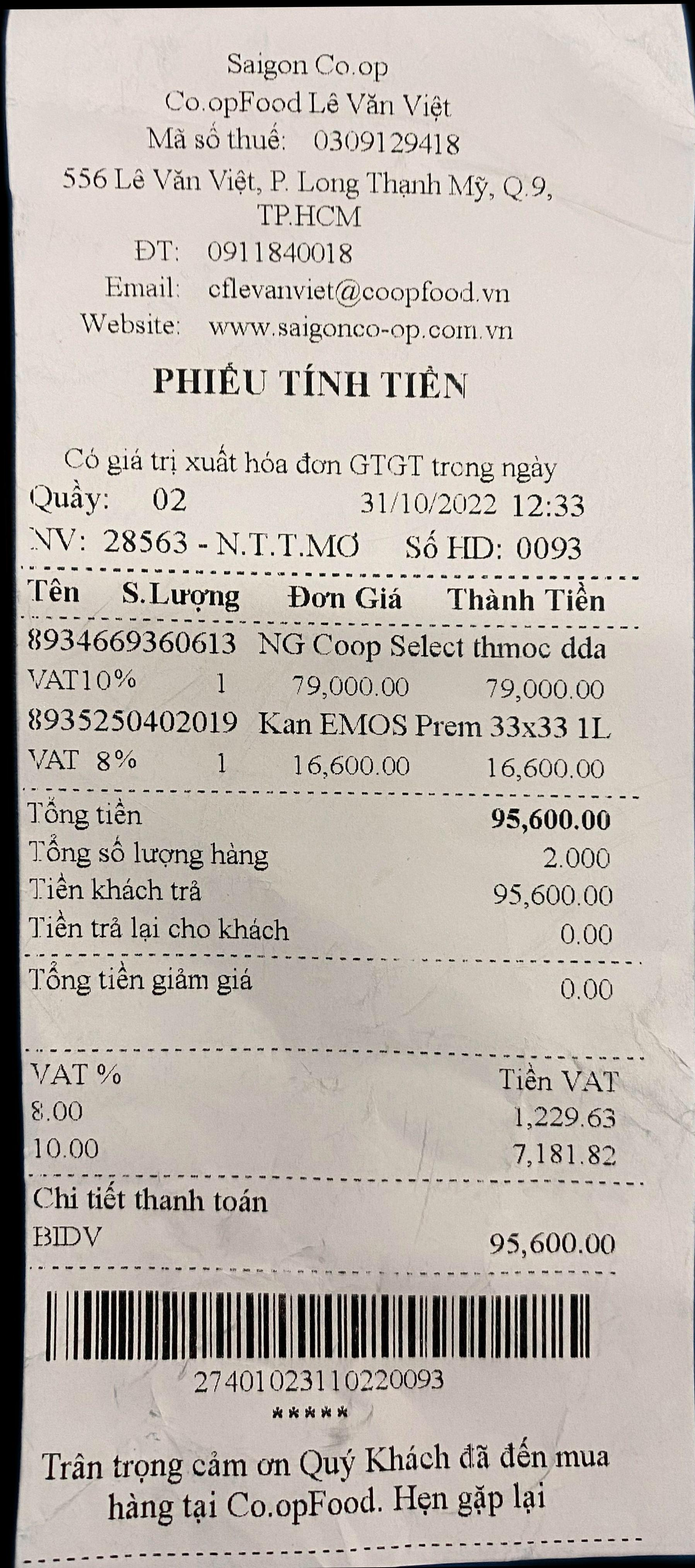Date: (321, 482, 504, 526)
Store_Name: (184, 29, 434, 85)
Total_Amount: (0, 791, 644, 839)
